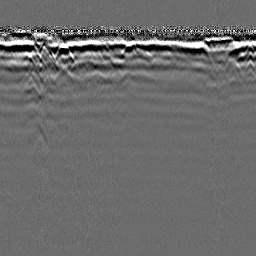cavity: (121, 40, 136, 56)
